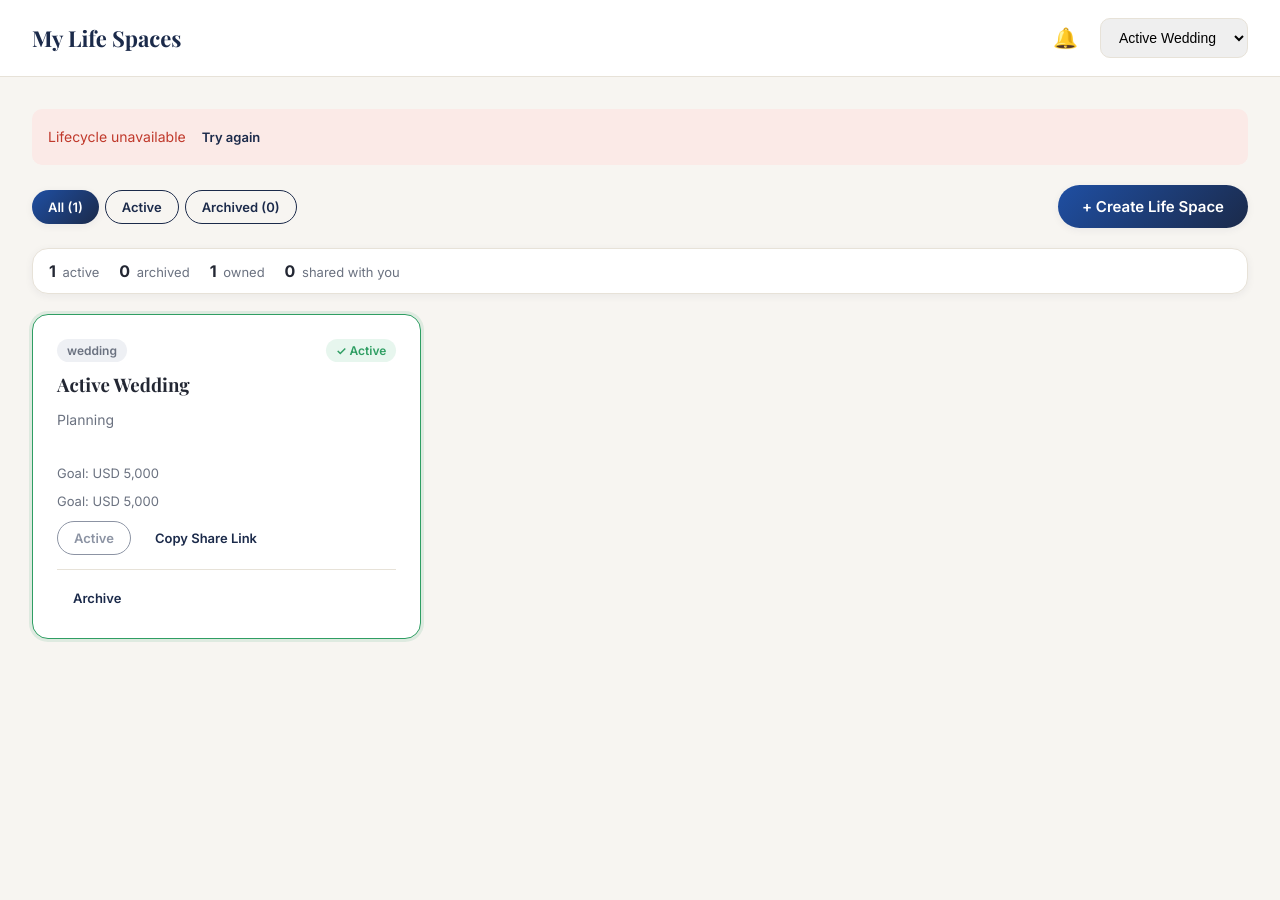
Test case: Life Space lifecycle listing › reports lifecycle loading errors and retries
Expected: the message shows "Lifecycle unavailable", [48, 128, 186, 145]
Click the button "Try again": (231, 137) [186, 121, 276, 153]
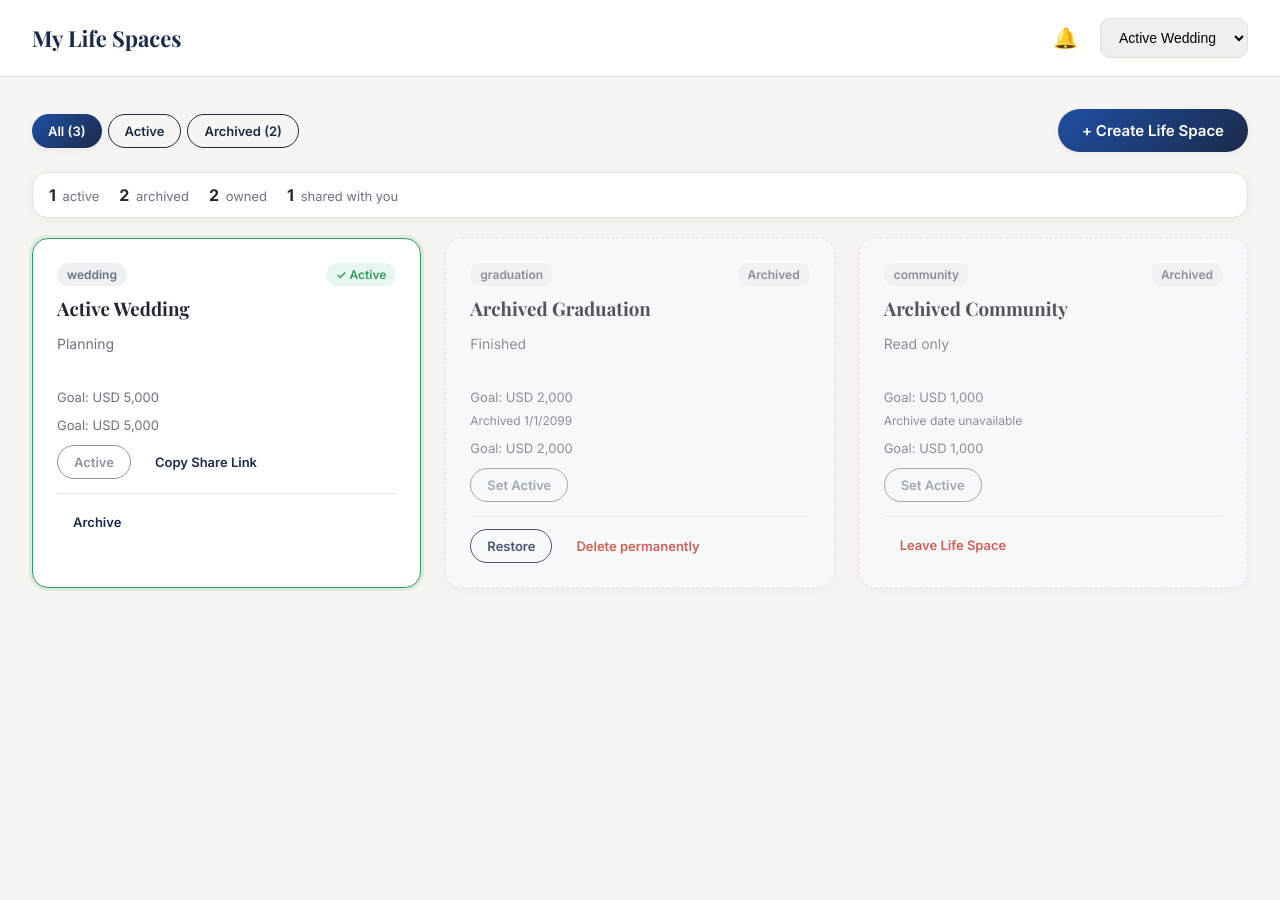
Now the heading "Archived Graduation" is shown, box [470, 296, 651, 321]
